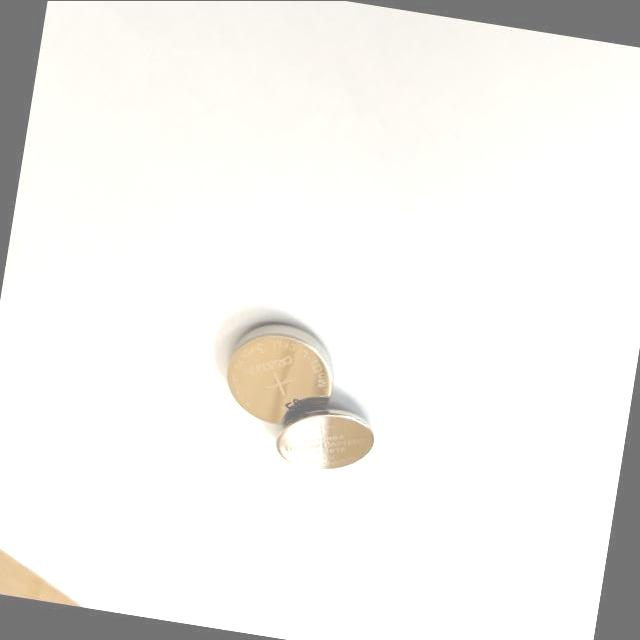COIN: (218, 314, 340, 430), (274, 396, 381, 478)
